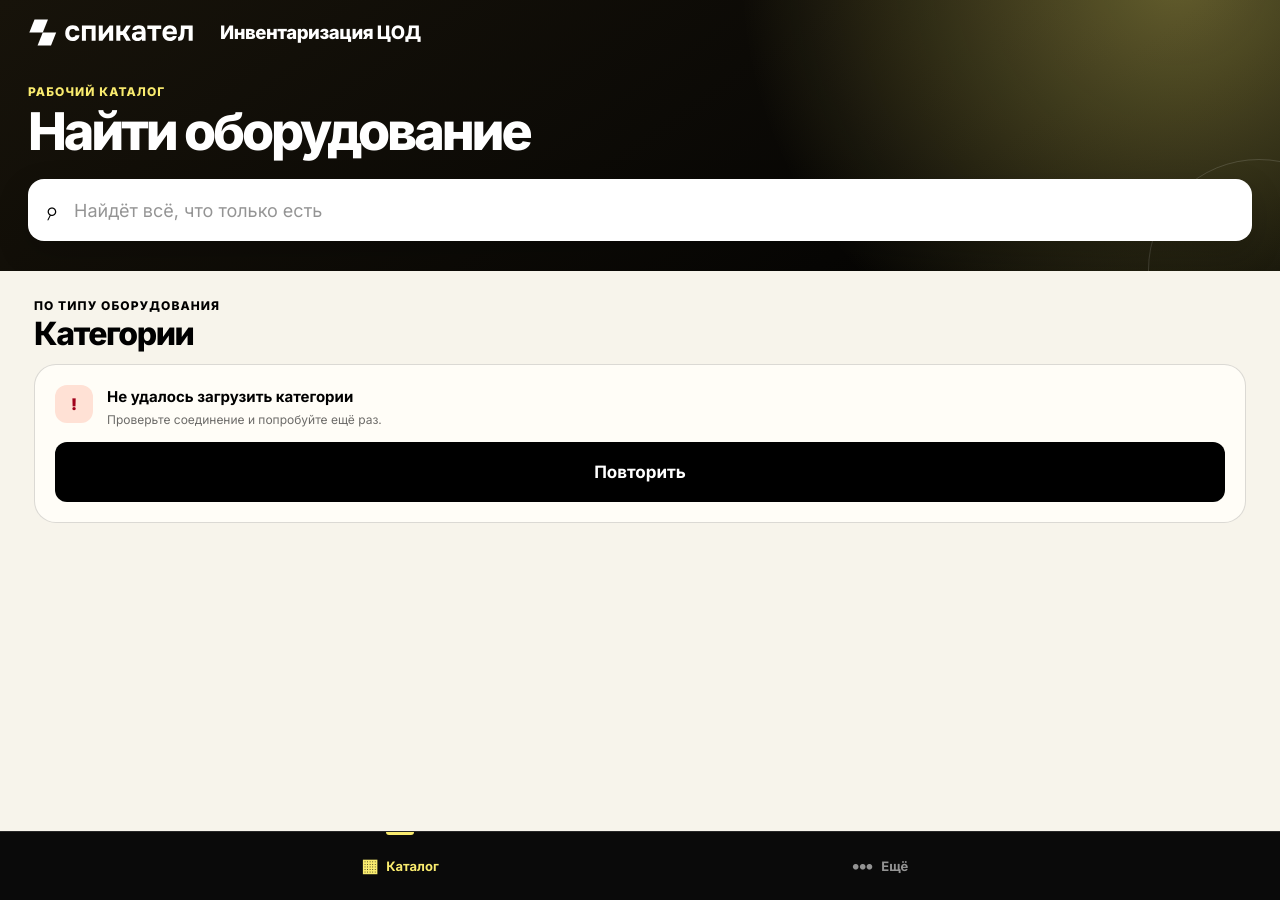
Test: показывает ошибку категорий и повторяет запрос
Expected: the text "Не удалось загрузить категории" is shown, [107,387,353,406]
Step 1. Click the button "Повторить" → (640, 472), box [55,442,1225,502]
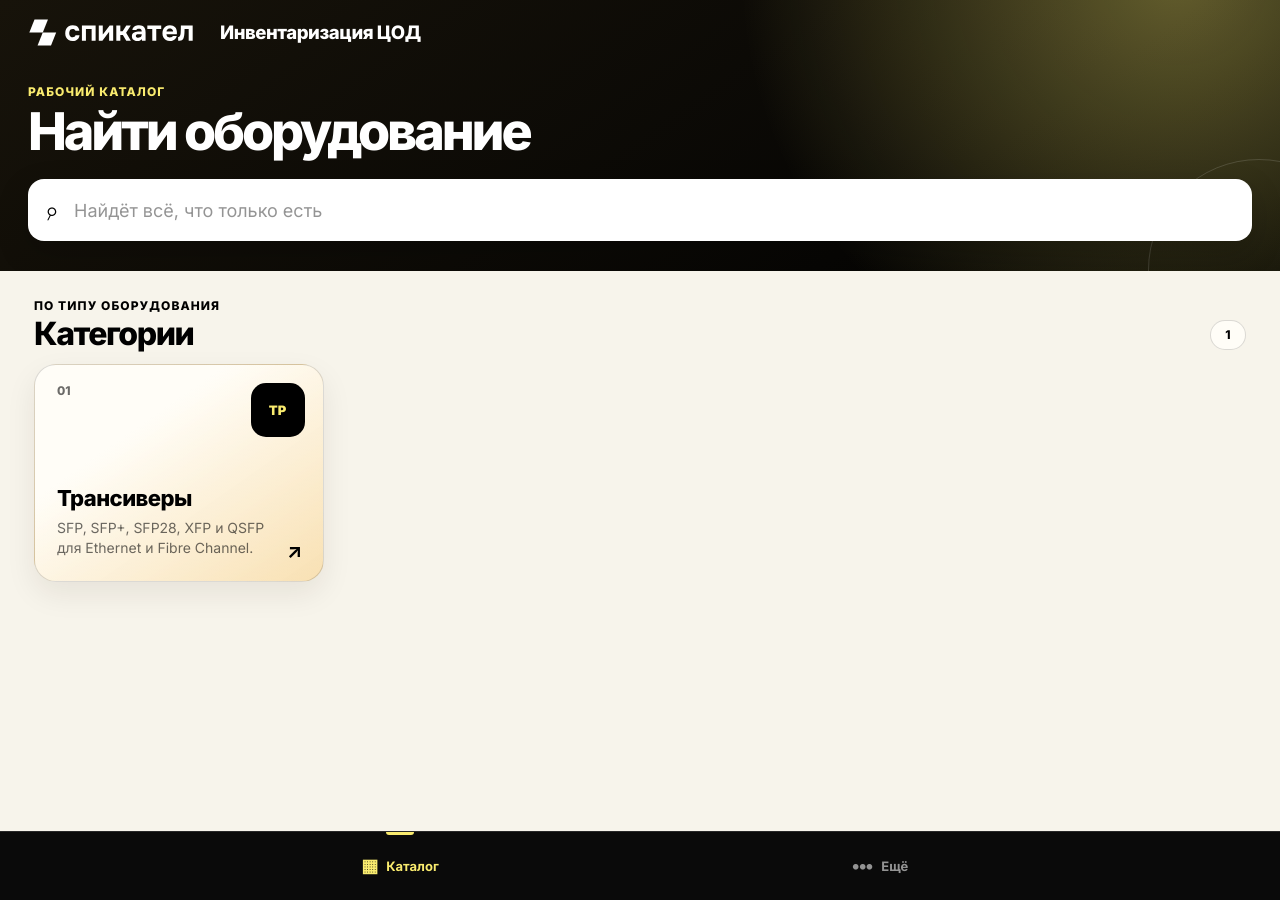
Now the link "Трансиверы" is shown, box [34,364,324,582]
